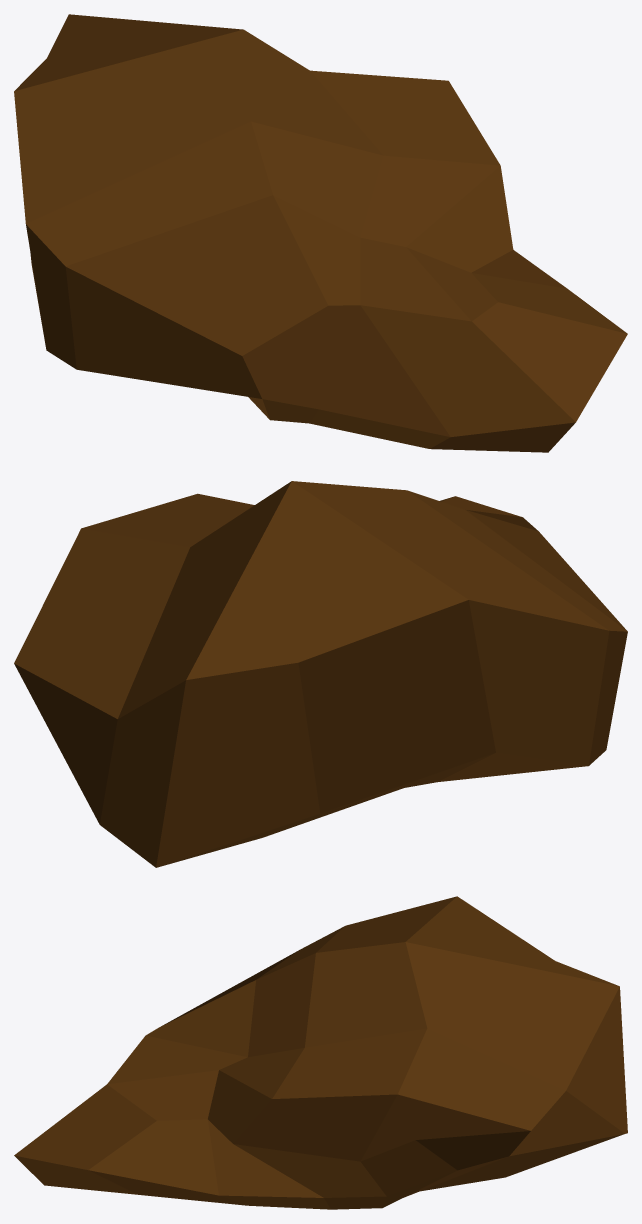
The model's file is Rock_B.fbx.
The picture shows the model from 3 angles, top to bottom: view 1: azimuth 30°, elevation 25°; view 2: azimuth 150°, elevation 25°; view 3: azimuth 270°, elevation 25°; orthographic projection. The views are drawn at different scales.
Parts seen in each view (by area): view 1: Rock_B; view 2: Rock_B; view 3: Rock_B.
Part boxes in pixels (left/top/right/bottom): Rock_B: left=14, top=14, right=627, bottom=452; Rock_B: left=14, top=481, right=627, bottom=867; Rock_B: left=14, top=896, right=627, bottom=1209.
Bounding box in the file's own units: 1.82 × 2.68 × 1.11.
